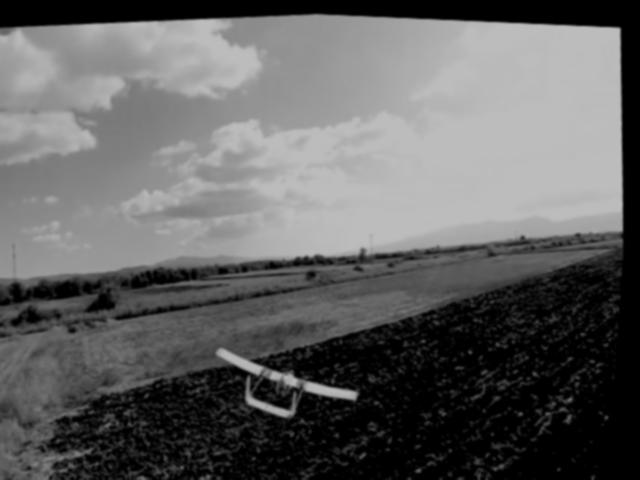hedef: (211, 324, 372, 429)
